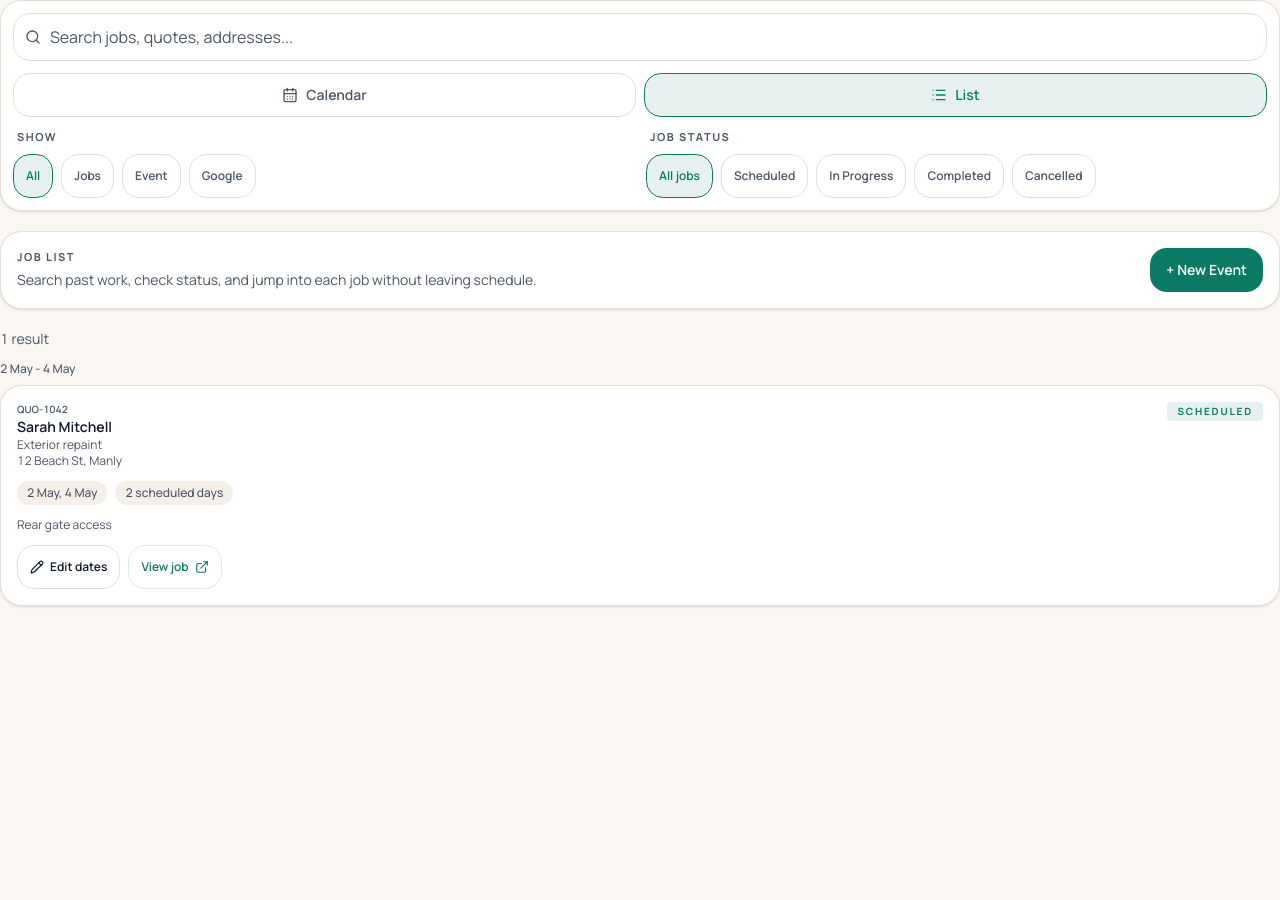
Test: ScheduleCalendar › opens job schedule editing in the shared accessible dialog
Click the button "Edit dates". click: (69, 566)
box: 17,544 -> 120,588
(page scrolled)
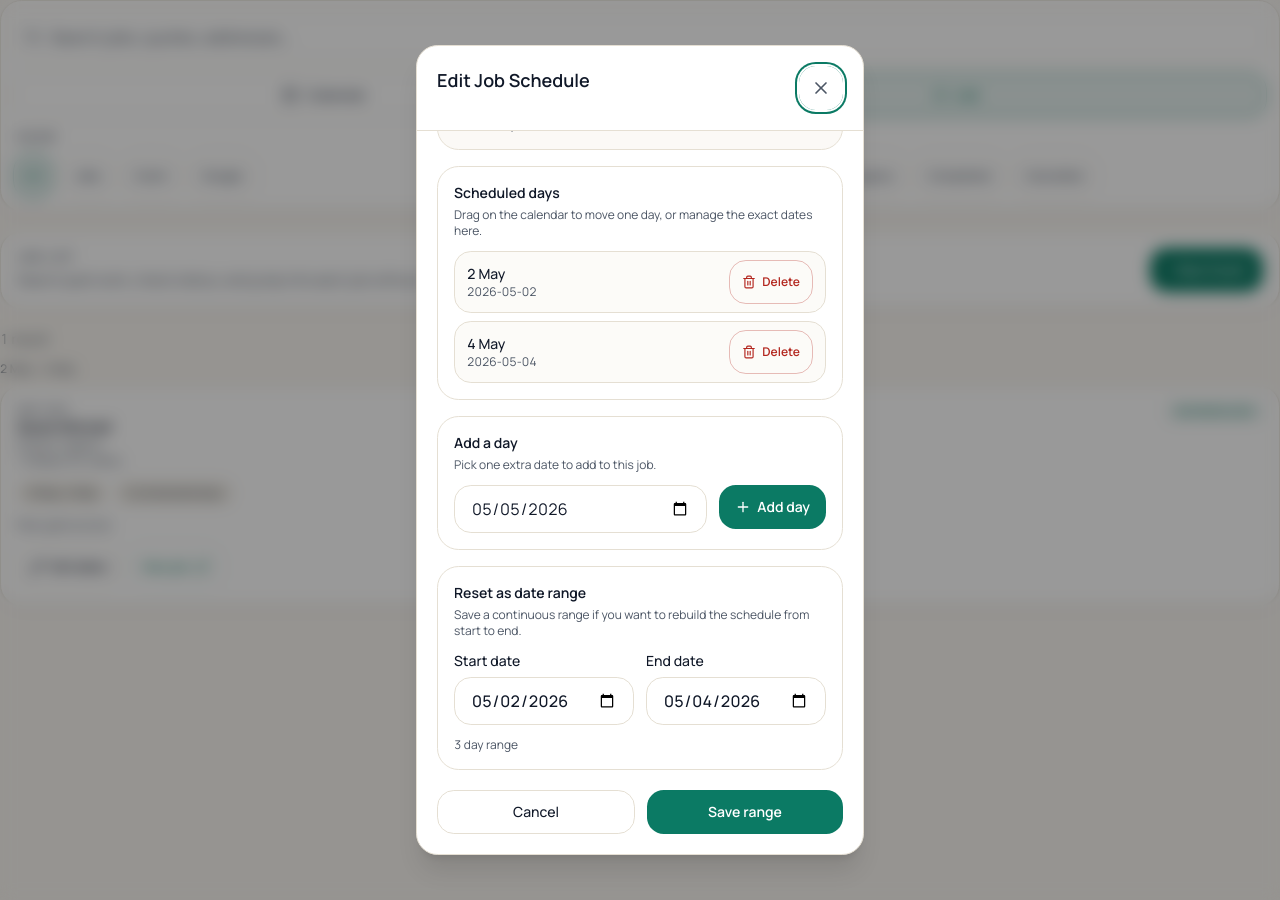
Press Escape
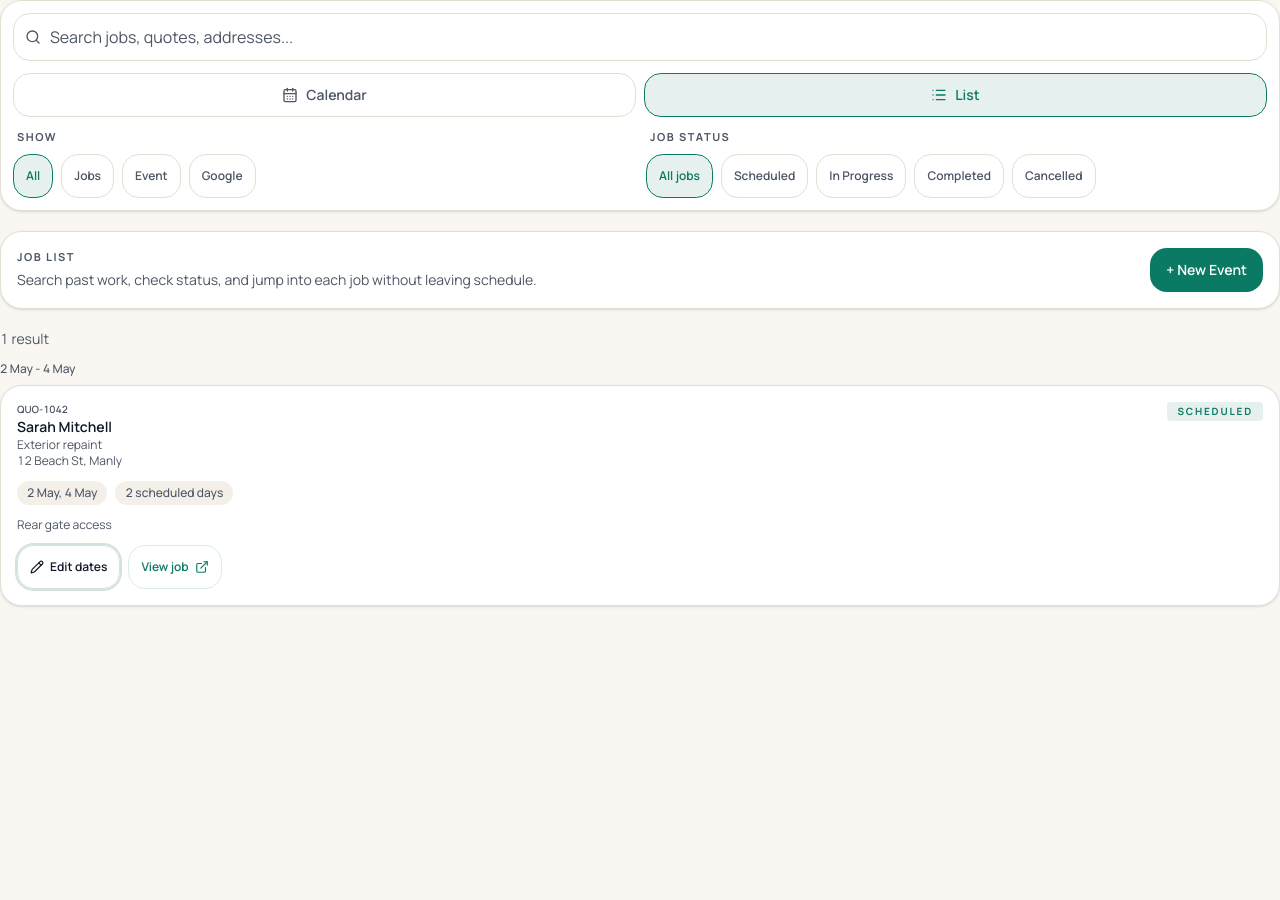
Expected: the heading "Edit Job Schedule" is gone
